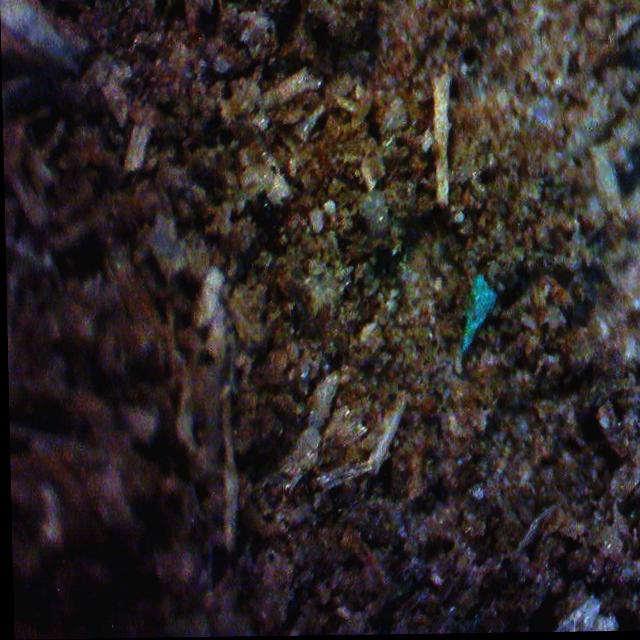microplastic: (454, 274, 499, 358)
